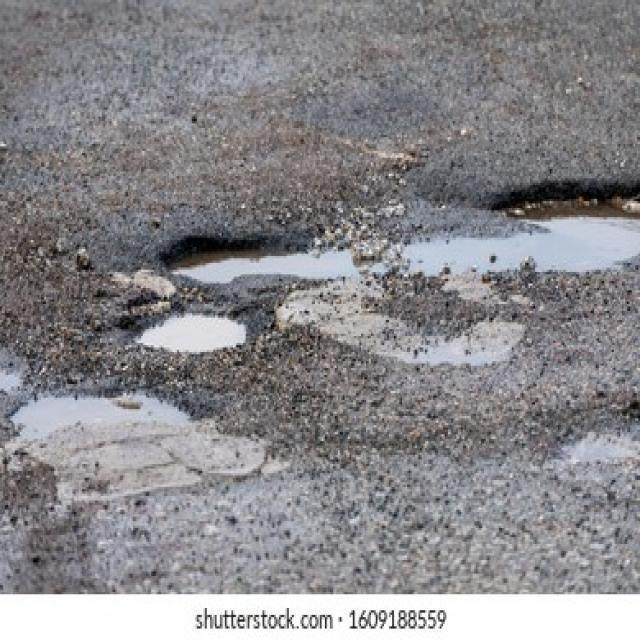pothole: (159, 169, 640, 286), (122, 297, 252, 359)
